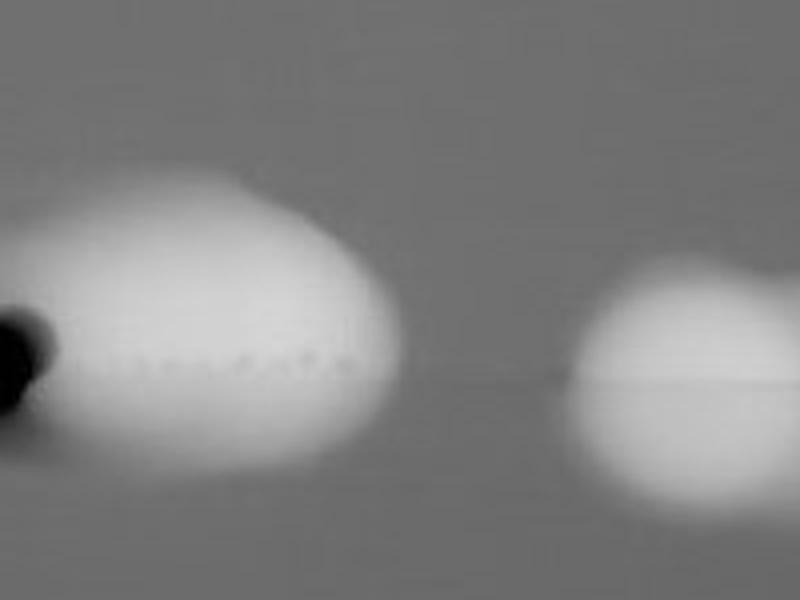defect: (1, 313, 51, 424), (299, 352, 322, 374), (232, 356, 257, 376), (340, 361, 358, 379)
